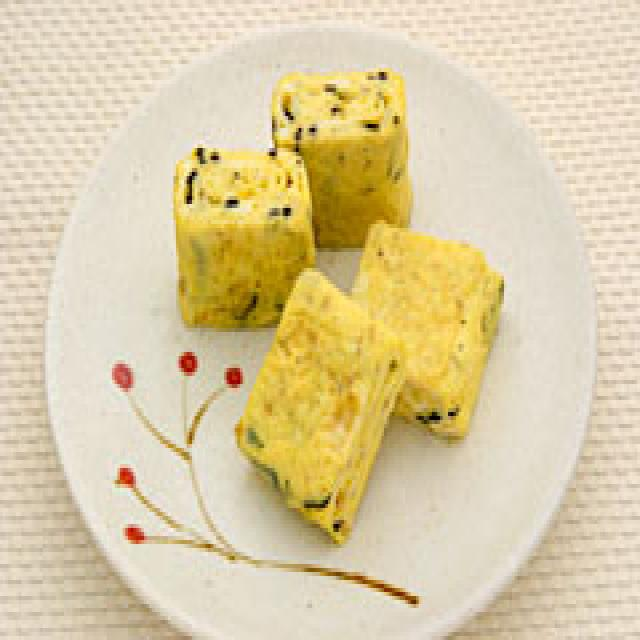鸡蛋料理: (160, 60, 512, 564)
